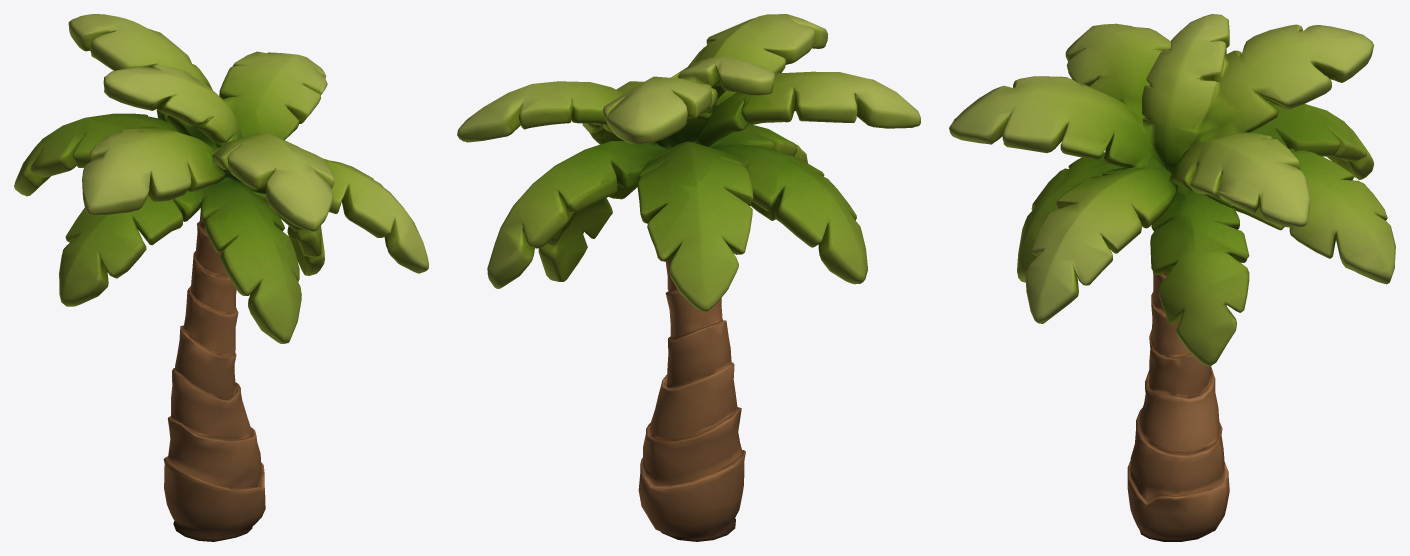
The model's file is tripo_convert_c508564d-f271-4255-9134-2f2097118bab.fbx.
The picture shows the model from 3 angles, left to right: view 1: azimuth 30°, elevation 25°; view 2: azimuth 150°, elevation 25°; view 3: azimuth 270°, elevation 25°; orthographic projection. The views are drawn at different scales.
Parts seen in each view (by area): view 1: tripo_node_c508564d; view 2: tripo_node_c508564d; view 3: tripo_node_c508564d.
Boxes of the visible parts, bbox=[...] form: tripo_node_c508564d: bbox=[14, 14, 428, 541]; tripo_node_c508564d: bbox=[457, 14, 920, 541]; tripo_node_c508564d: bbox=[949, 14, 1395, 541].
Size of the model in its own units: 0.7495 by 1 by 0.8474.
Materials: 1 (1 with a texture image).
